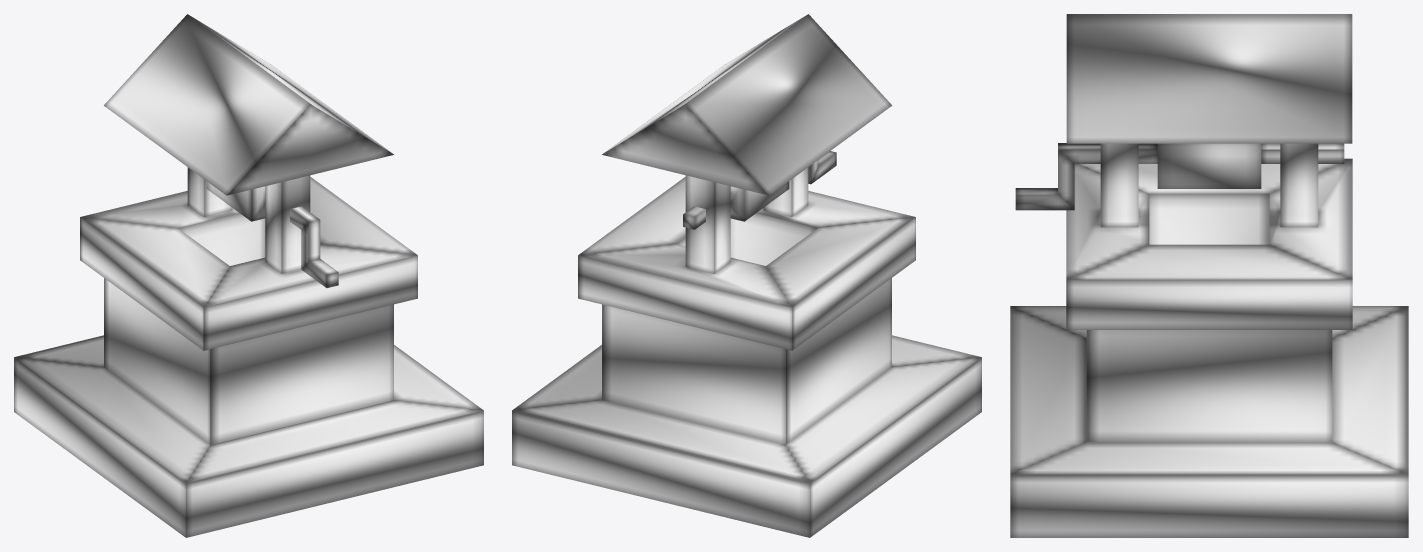
File: Well-01.fbx
3 renders of one model, left to right at view 1: azimuth 30°, elevation 25°; view 2: azimuth 150°, elevation 25°; view 3: azimuth 270°, elevation 25°, orthographic. The views are drawn at different scales.
Visible parts, largest first — view 1: Well-01; view 2: Well-01; view 3: Well-01.
Boxes of the visible parts, box(x1,y1,x2,y2) form: Well-01: box(14, 14, 483, 537); Well-01: box(512, 14, 981, 537); Well-01: box(1010, 14, 1408, 537).
Bounding box in the file's own units: 0.3924 × 0.478 × 0.3924.
